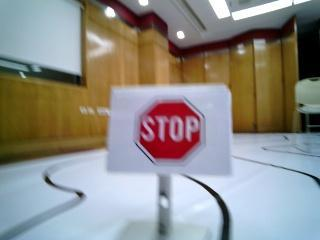stop: (121, 88, 217, 167)
